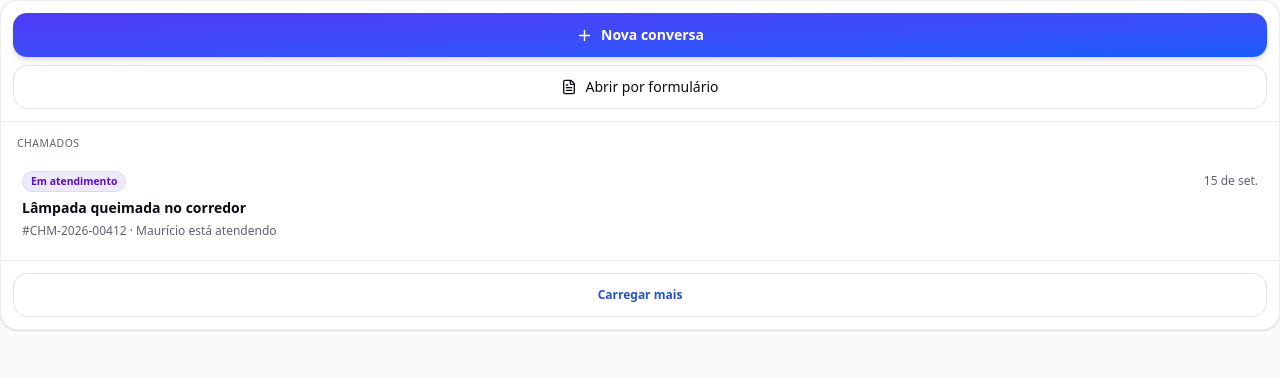
Test: ListaLateral · carregar mais › acrescenta a página seguinte à lista, sem repetir o que já estava
The image size is (1280, 378).
Click the button "Carregar mais". click: (640, 296)
box: [13, 274, 1267, 318]
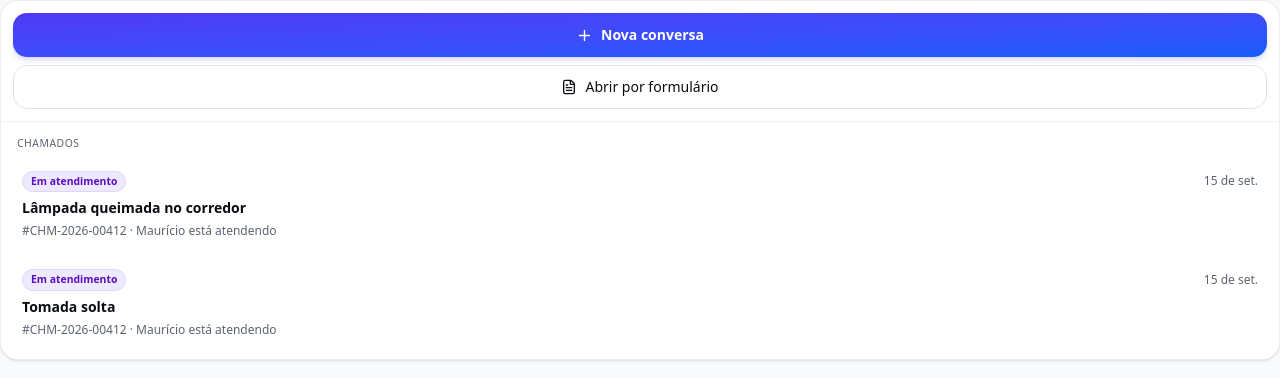
Result: the text "Tomada solta" is shown at [22, 297, 115, 316]
